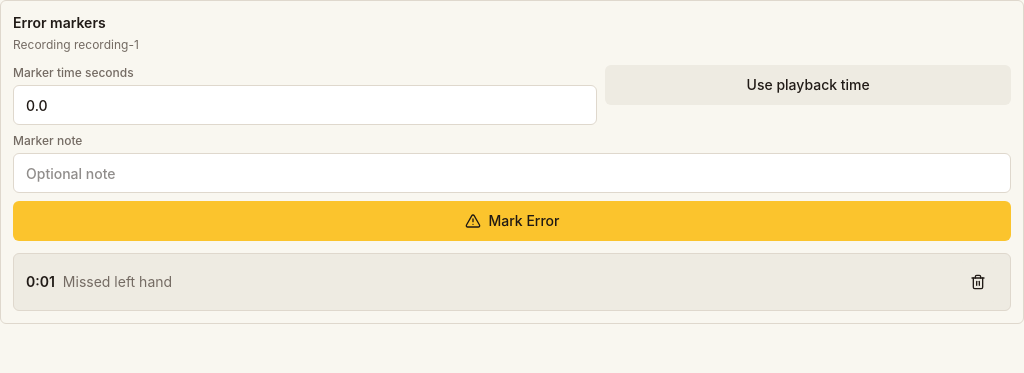
it: ErrorMarkerPanel › shows a recoverable error when the playback boundary does not confirm current time
Click the button with aria-label "Seek to marker 0:01" at [117, 282], box [26,262,950,302]
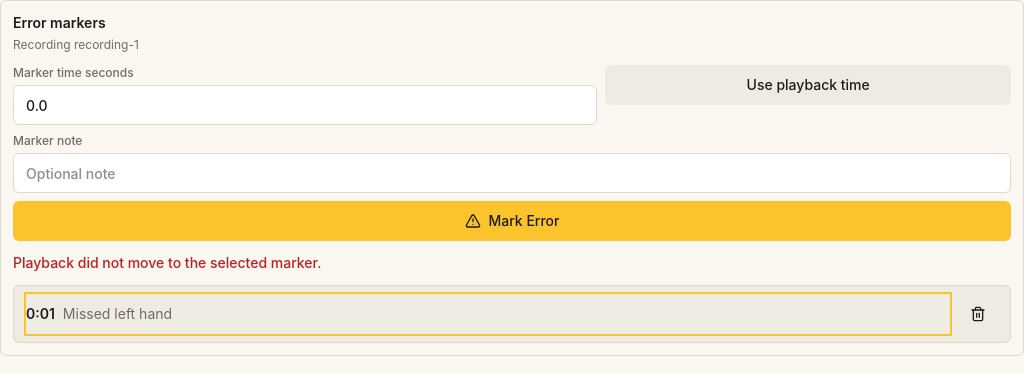
Expected: the message reads "Playback did not move to the selected marker.", [13,254,321,271]
